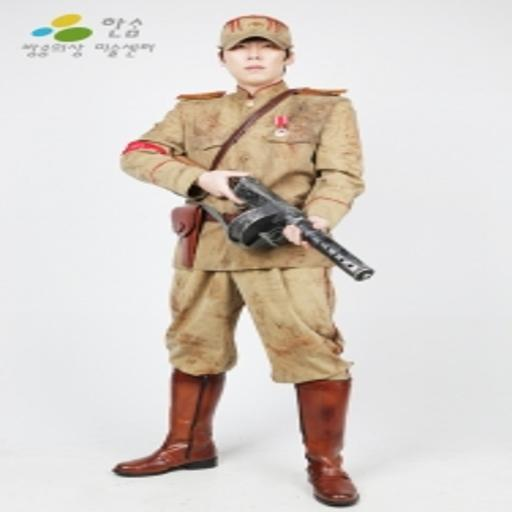north army: (60, 25, 498, 510)
